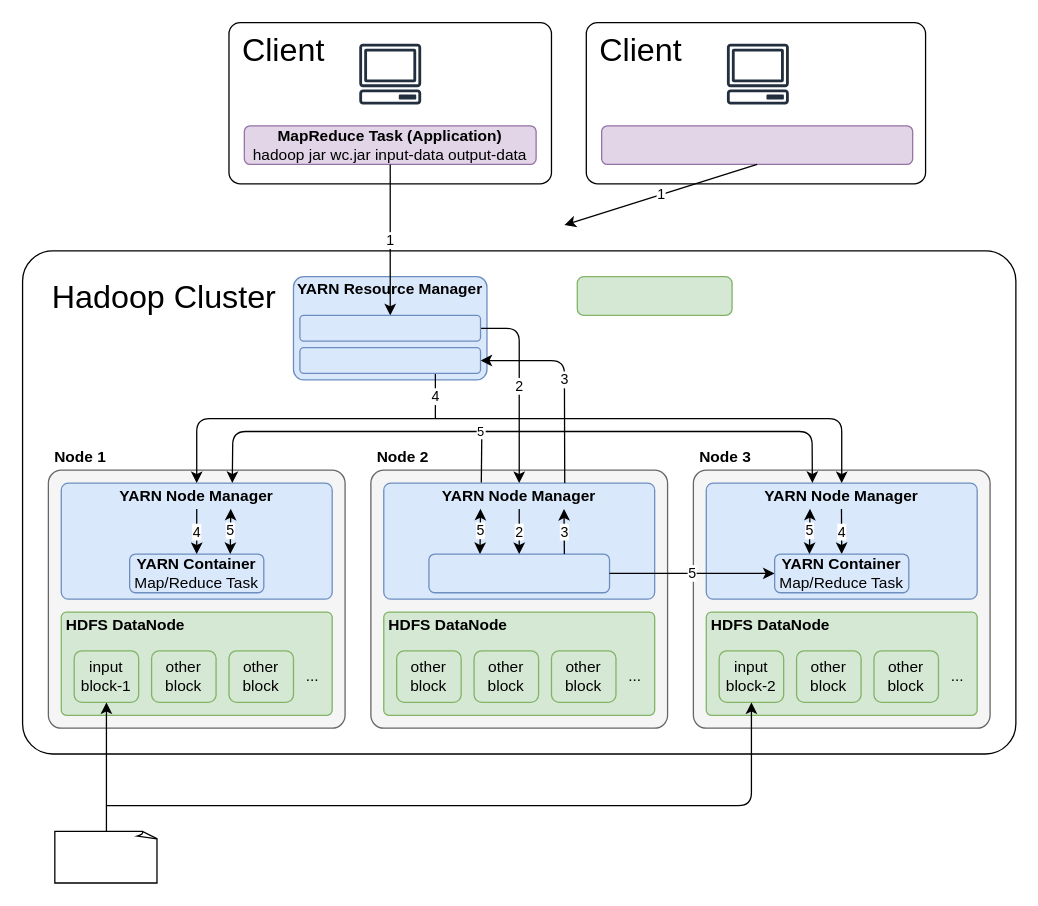
This 1038x906 diagram has some shape labels left out. Each missing label, with the centre of its shape:
Application Manager: the point at 390,327
HDFS NameNode: the point at 654,295
input-data: the point at 106,856
MapReduce Task (Application) hadoop jar wc.jar input-data-2 output-data-2: the point at 756,144
Scheduler: the point at 390,359
YARN Container Application Master: the point at 519,573
